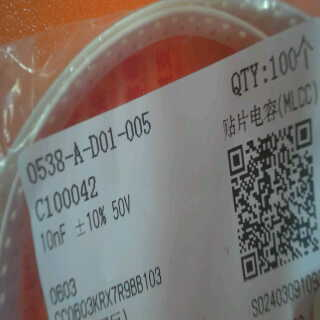10nF: (35, 221, 71, 256)
